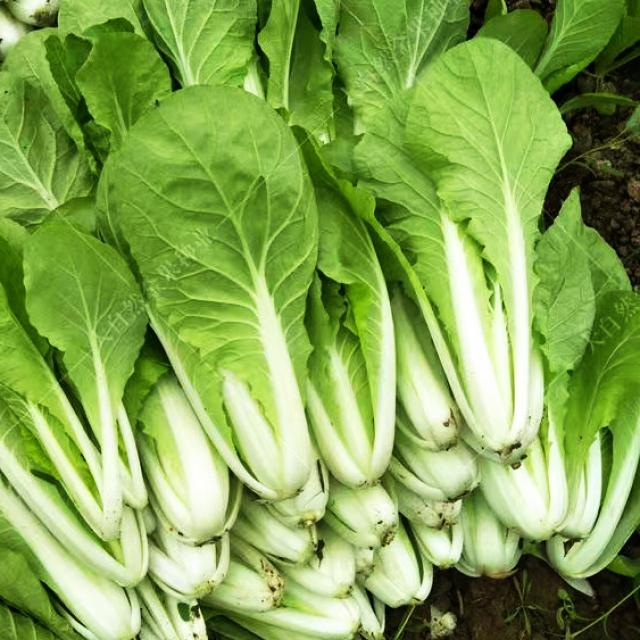chinese_cabbage: (97, 85, 342, 486), (364, 46, 574, 461), (13, 283, 155, 536)
